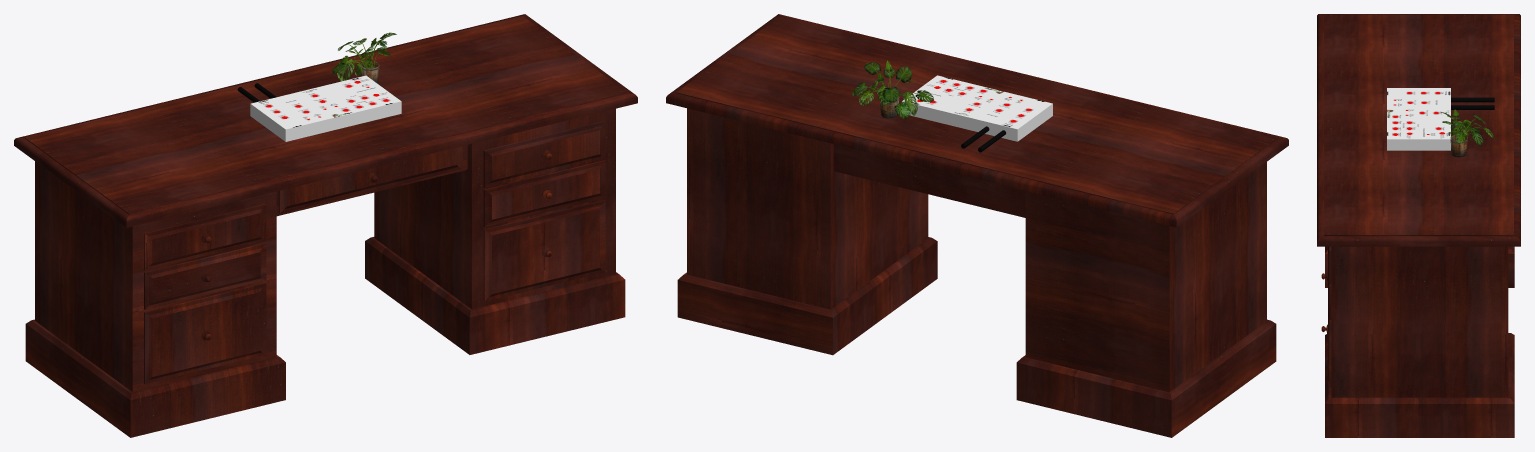
Rendered from kitskeys.glb.
3 renders of one model, left to right at view 1: azimuth 30°, elevation 25°; view 2: azimuth 150°, elevation 25°; view 3: azimuth 270°, elevation 25°, orthographic. The views are drawn at different scales.
Parts seen in each view (by area): view 1: wooden_desk_01, #mybox, plante; view 2: wooden_desk_01, #mybox, plante; view 3: wooden_desk_01, #mybox, plante, Cylinder, Cylinder.001.
Part boxes in pixels (left/top/right/bottom): wooden_desk_01: left=14, top=14, right=637, bottom=437; #mybox: left=250, top=75, right=401, bottom=141; plante: left=332, top=32, right=396, bottom=83; wooden_desk_01: left=666, top=14, right=1288, bottom=437; #mybox: left=902, top=75, right=1052, bottom=141; plante: left=852, top=60, right=934, bottom=119; wooden_desk_01: left=1317, top=14, right=1520, bottom=437; #mybox: left=1387, top=88, right=1450, bottom=150; plante: left=1440, top=109, right=1493, bottom=157; Cylinder: left=1451, top=97, right=1494, bottom=102; Cylinder.001: left=1451, top=105, right=1494, bottom=109.
Bounding box in the file's own units: 2.15 × 1.09 × 0.8172.
5 materials, 4 textured.
